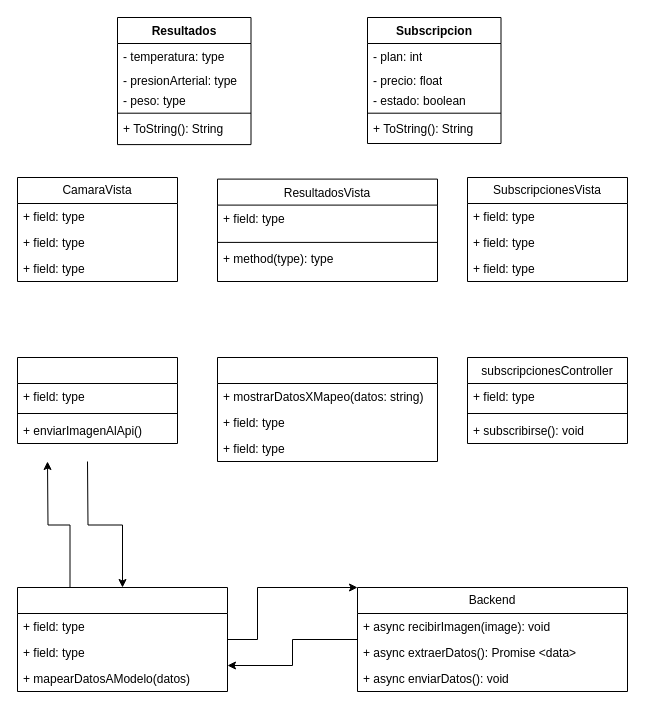
This 645x712 diagram has some shape labels left out. The shapes that lost their labels are listed below. From the top down, each one's box as (x1, y1, x2, y2) in pixels, then its label:
(16, 356, 178, 444): camaraController
(216, 356, 438, 462): resultadosDeDatosController
(16, 586, 228, 692): Service_CallAPI
